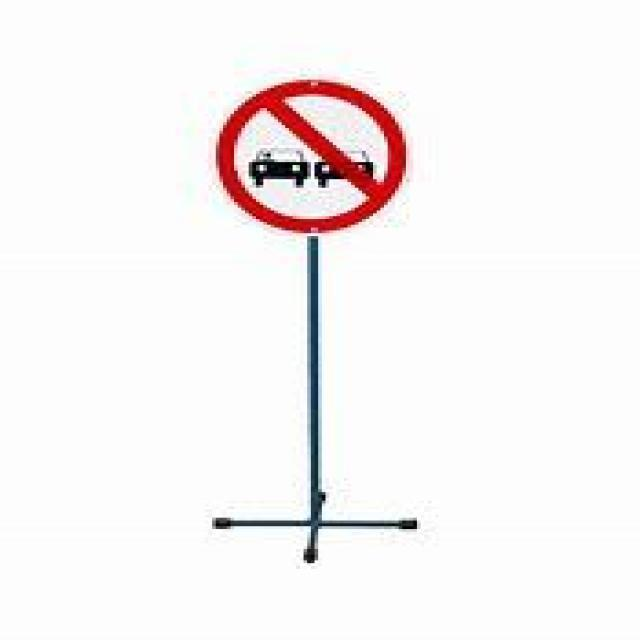overtaking prohibited: (216, 76, 410, 235)
